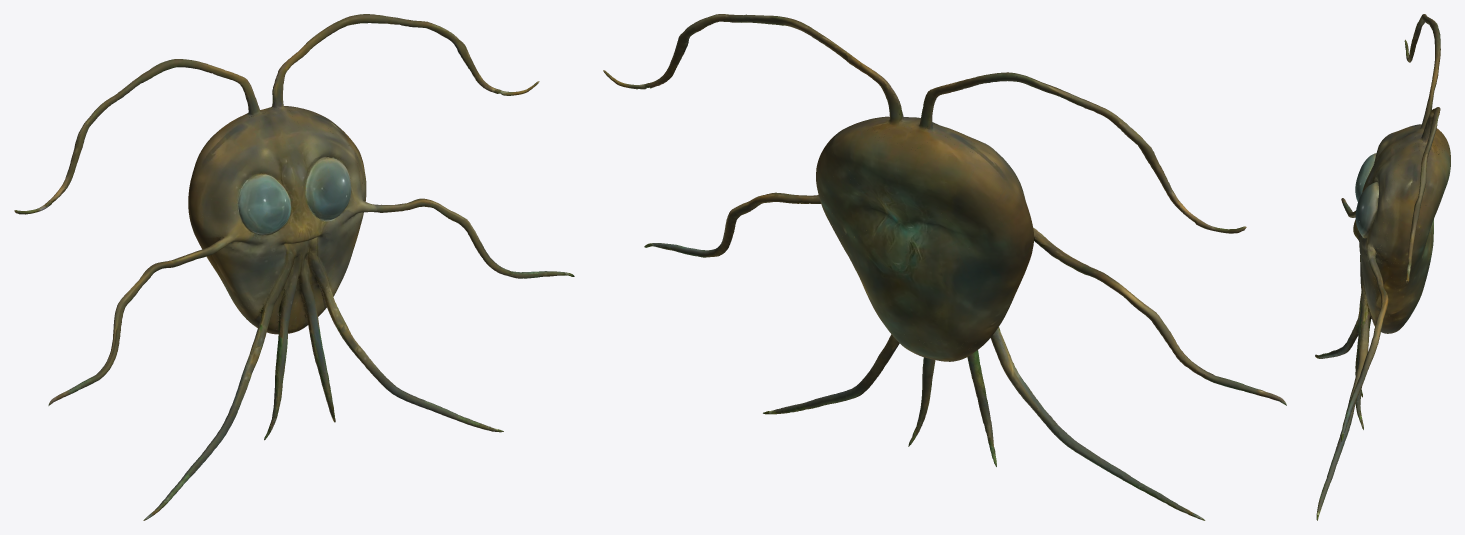
The model's file is giardia-duodenalis_A.glb.
3 views of the same model, side by side, from view 1: azimuth 30°, elevation 25°; view 2: azimuth 150°, elevation 25°; view 3: azimuth 270°, elevation 25° (orthographic). The views are drawn at different scales.
Visible parts, largest first — view 1: Flagelos_mesh, Cuerpo_mesh, DiscoVent_mesh, Nucleo_mesh, CuerpoMedio_mesh; view 2: Cuerpo_mesh, Flagelos_mesh, DiscoVent_mesh; view 3: Cuerpo_mesh, Flagelos_mesh, DiscoVent_mesh, Nucleo_mesh.
Part boxes in pixels (x1,y1,x2,y2): Flagelos_mesh: (14,14,574,520); Cuerpo_mesh: (15,14,572,520); DiscoVent_mesh: (210,126,370,257); Nucleo_mesh: (236,155,354,239); CuerpoMedio_mesh: (272,226,326,260); Cuerpo_mesh: (603,15,1286,520); Flagelos_mesh: (604,14,1286,520); DiscoVent_mesh: (816,138,1024,268); Cuerpo_mesh: (1317,24,1450,520); Flagelos_mesh: (1315,14,1445,520); DiscoVent_mesh: (1355,131,1443,264); Nucleo_mesh: (1355,153,1378,240).
Size of the model in its own units: 1.99 by 1.42 by 0.4736.
Materials: 1 (1 with a texture image).
